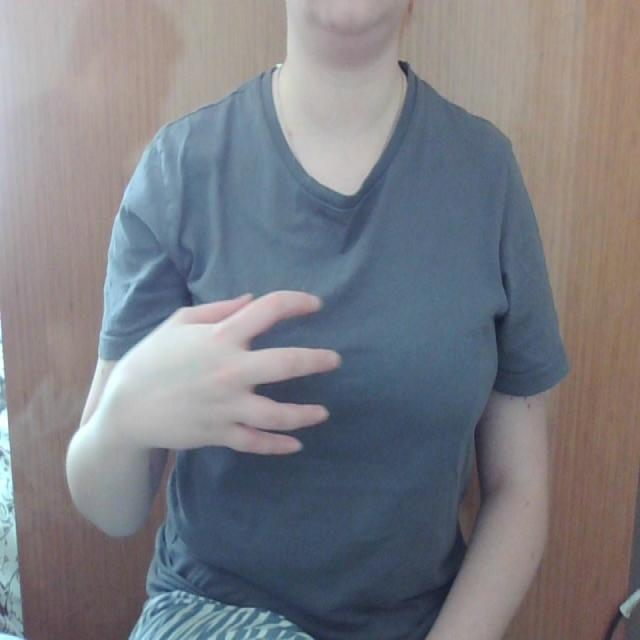Anne: (107, 270, 497, 466)
